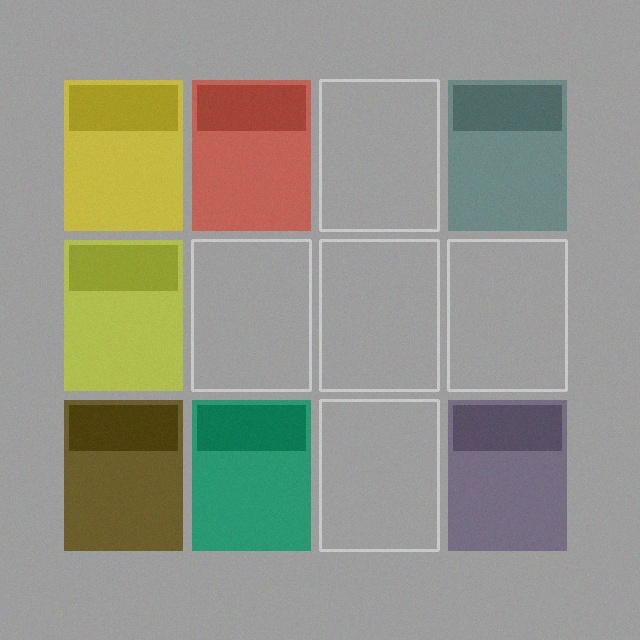space-empty: (320, 80, 438, 230), (192, 240, 310, 390), (320, 240, 438, 390), (448, 240, 566, 390), (320, 400, 438, 550)
space-occupied: (64, 80, 182, 230), (192, 80, 310, 230), (448, 80, 566, 230), (64, 240, 182, 390), (64, 400, 182, 550), (192, 400, 310, 550), (448, 400, 566, 550)
